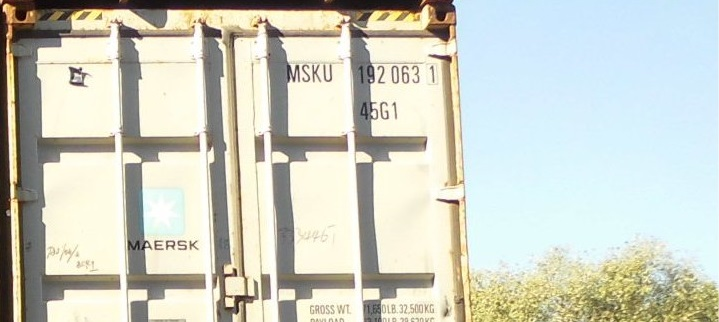container_door: (7, 5, 471, 320)
